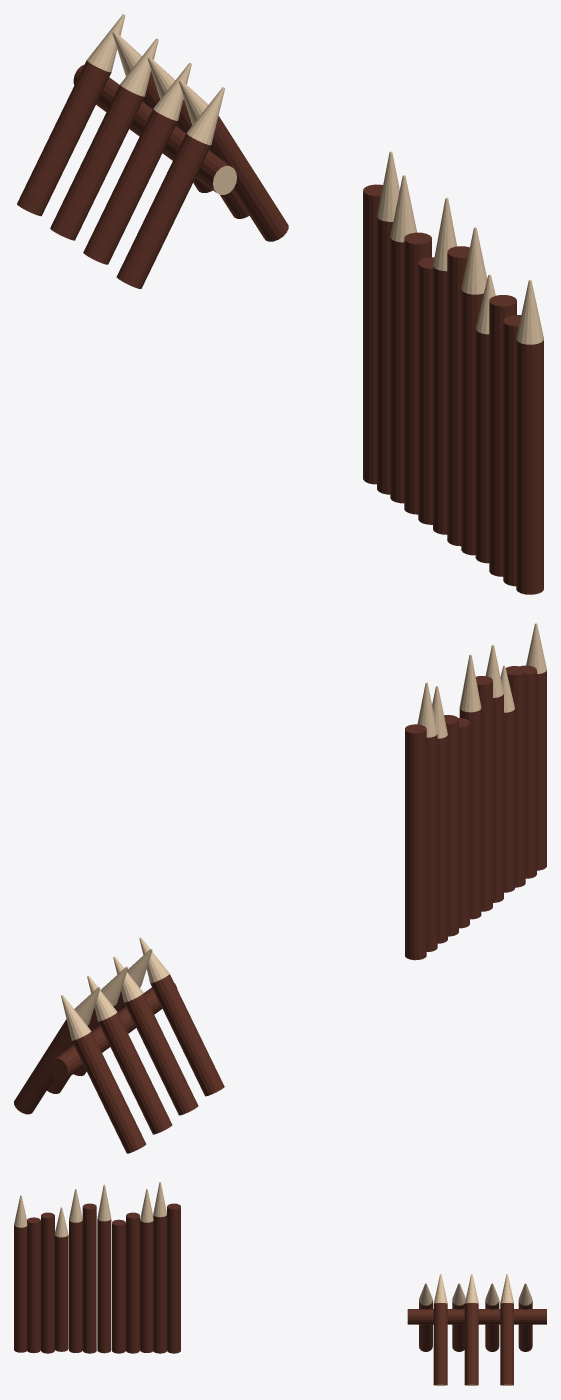
File: wall.fbx
The picture shows the model from 3 angles, top to bottom: view 1: azimuth 30°, elevation 25°; view 2: azimuth 150°, elevation 25°; view 3: azimuth 270°, elevation 25°; orthographic projection. The views are drawn at different scales.
Parts seen in each view (by area): view 1: Wall, Obstacle; view 2: Wall, Obstacle; view 3: Wall, Obstacle.
Part boxes in pixels (box(x1,y1,x2,y2)): Wall: box(363, 151, 543, 594); Obstacle: box(17, 14, 288, 288); Wall: box(405, 623, 546, 960); Obstacle: box(14, 938, 224, 1153); Wall: box(14, 1182, 180, 1353); Obstacle: box(407, 1274, 546, 1385).
Bounding box in the file's own units: 1556 × 2657 × 7624.
